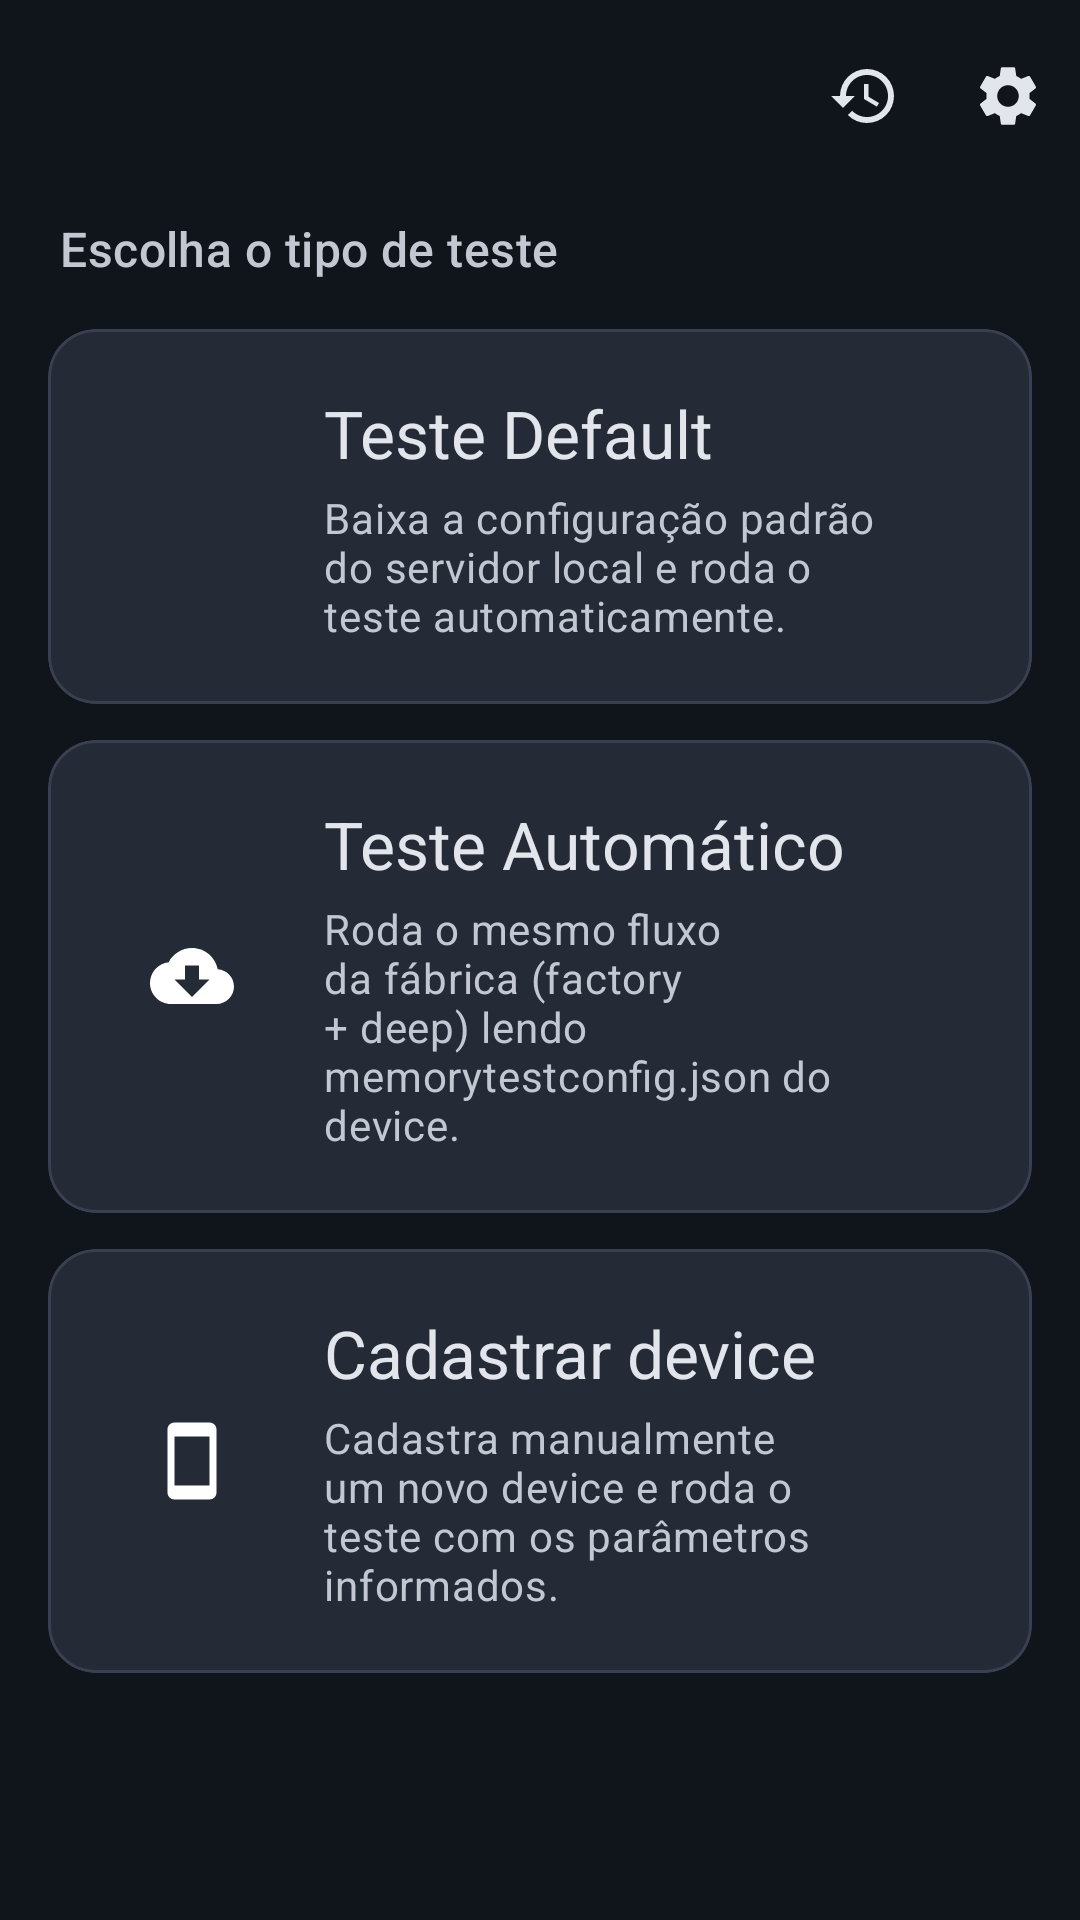

Where icons sit on this 1080px×1920px app screen, as bbox=(x1, y1, x2, y2):
cloud download: bbox=(150, 948, 234, 1004)
phone: bbox=(167, 1422, 217, 1500)
